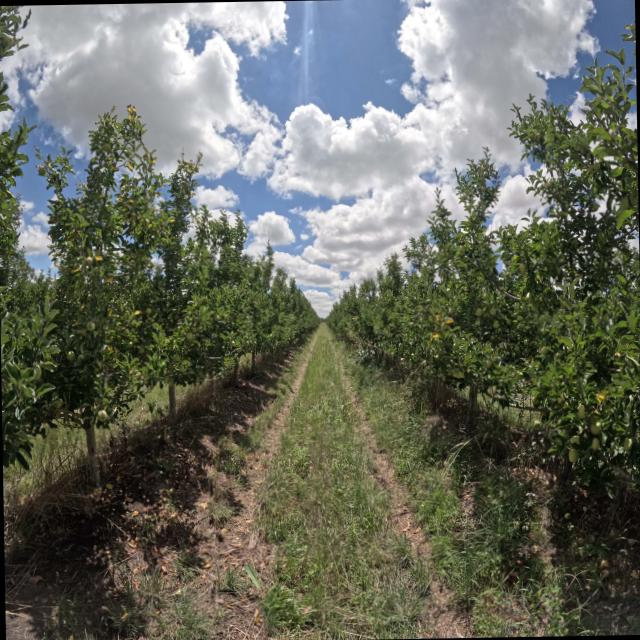-FireBlight-: (426, 328, 439, 344), (443, 316, 454, 324)
